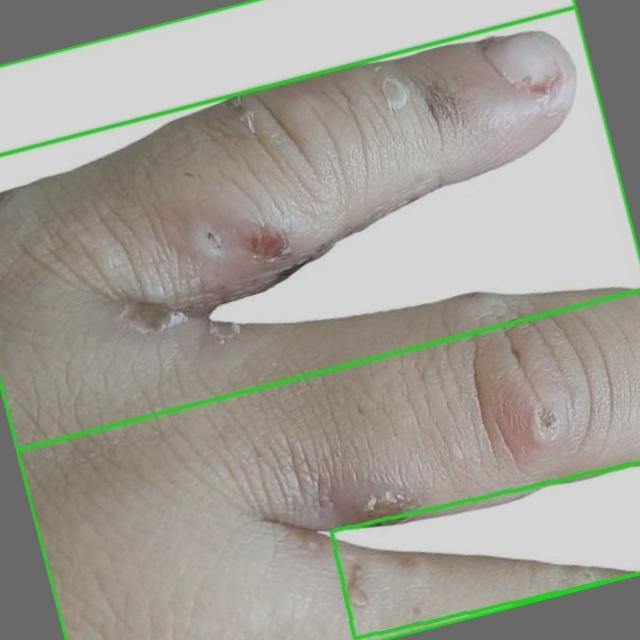Scabies: (0, 6, 639, 639), (0, 0, 639, 450), (331, 461, 639, 638)
